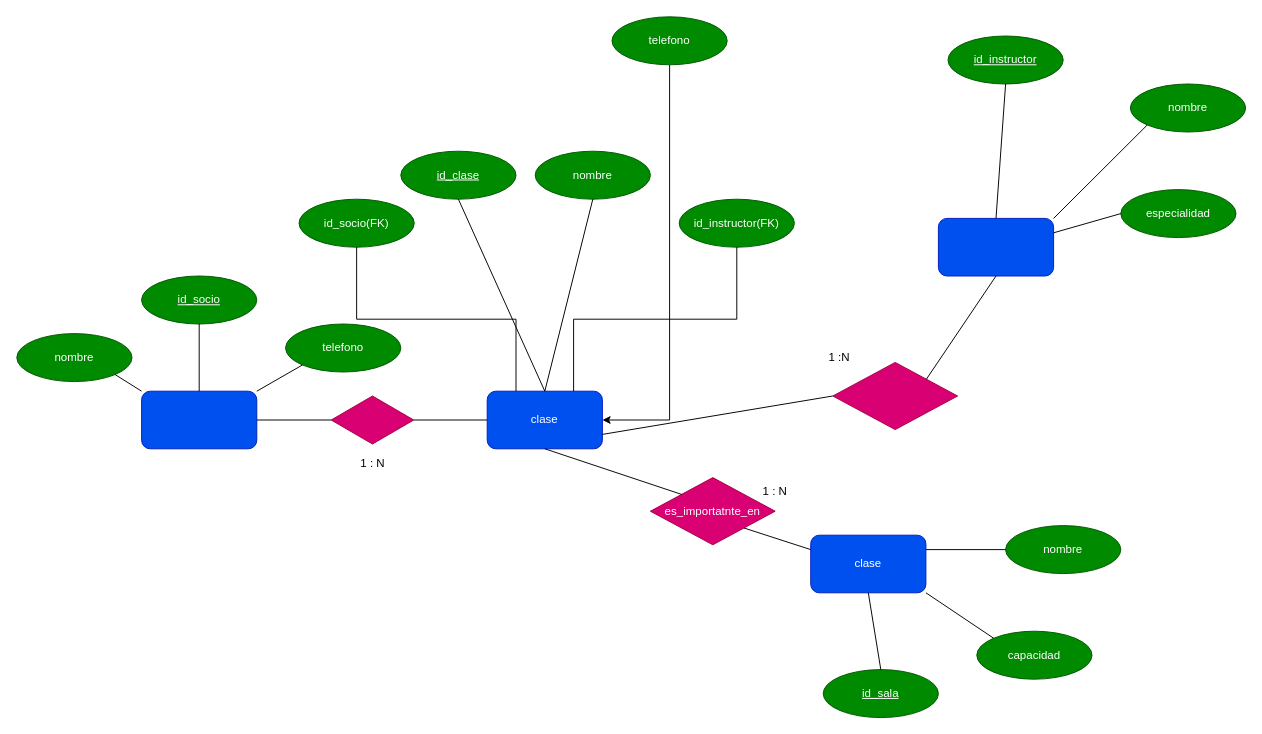
This 1262x734 diagram has some shape labels left out. The centre of each missing label's shape, as x and y in pixels:
"importate" goes at [895,395].
"instructor" goes at [995,246].
"reserva" goes at [372,419].
"socio" goes at [199,419].
